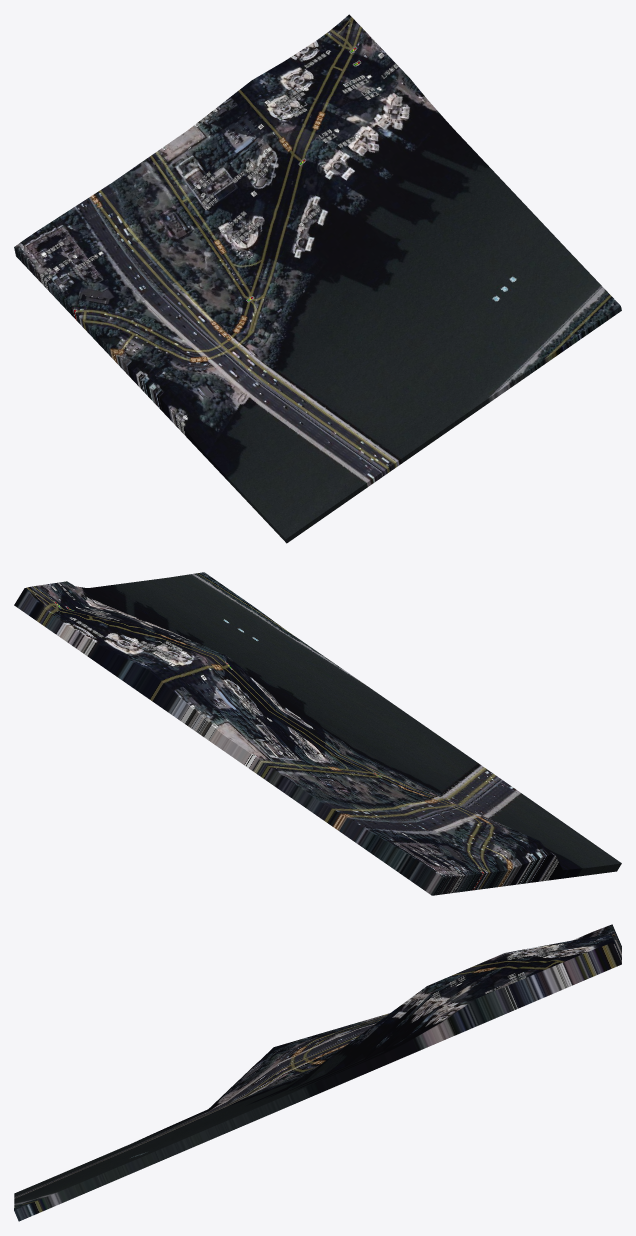
3 renders of one model, top to bottom at view 1: azimuth 30°, elevation 25°; view 2: azimuth 150°, elevation 25°; view 3: azimuth 270°, elevation 25°, orthographic. The views are drawn at different scales.
Parts seen in each view (by area): view 1: 0_13_20; view 2: 0_13_20; view 3: 0_13_20.
Part boxes in pixels (x1,y1,x2,y2): 0_13_20: [14, 14, 621, 543]; 0_13_20: [14, 572, 621, 895]; 0_13_20: [14, 924, 621, 1221].
Size of the model in its own units: 600 by 446 by 546.
Materials: 1 (1 with a texture image).
